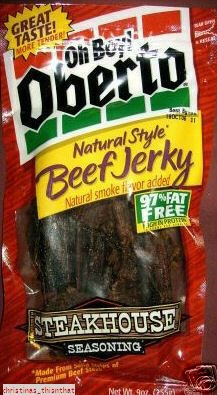grozi_78: (0, 0, 217, 394)
